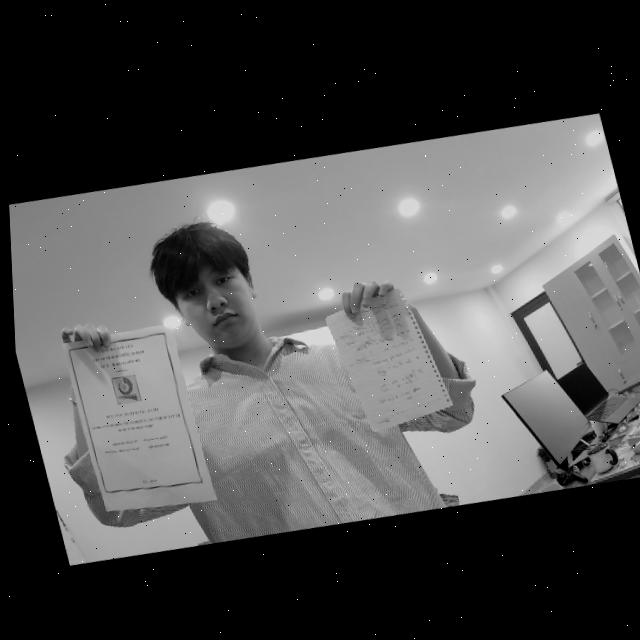document: (62, 324, 217, 511), (323, 286, 453, 433)
face: (155, 213, 273, 362)
